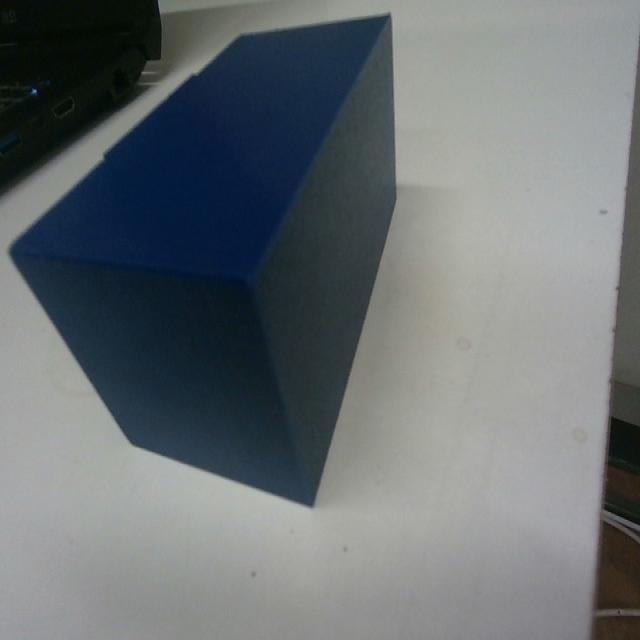Blue Cuboid: (8, 9, 399, 508)
